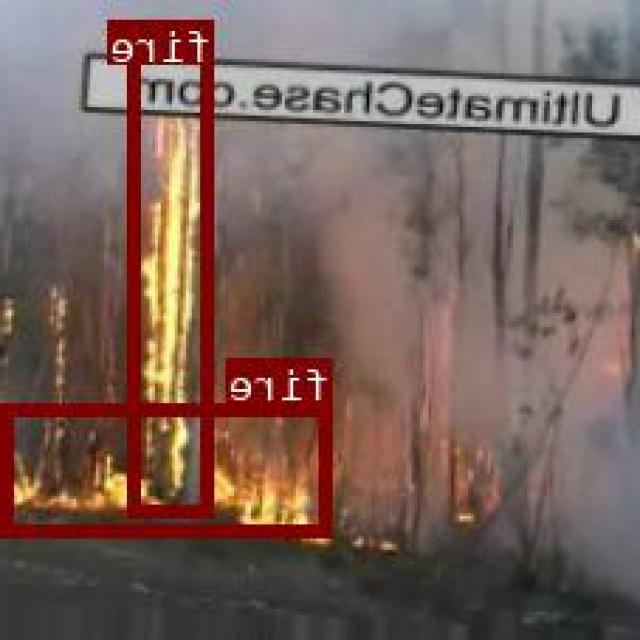fire: (6, 400, 335, 533), (132, 18, 216, 516)
